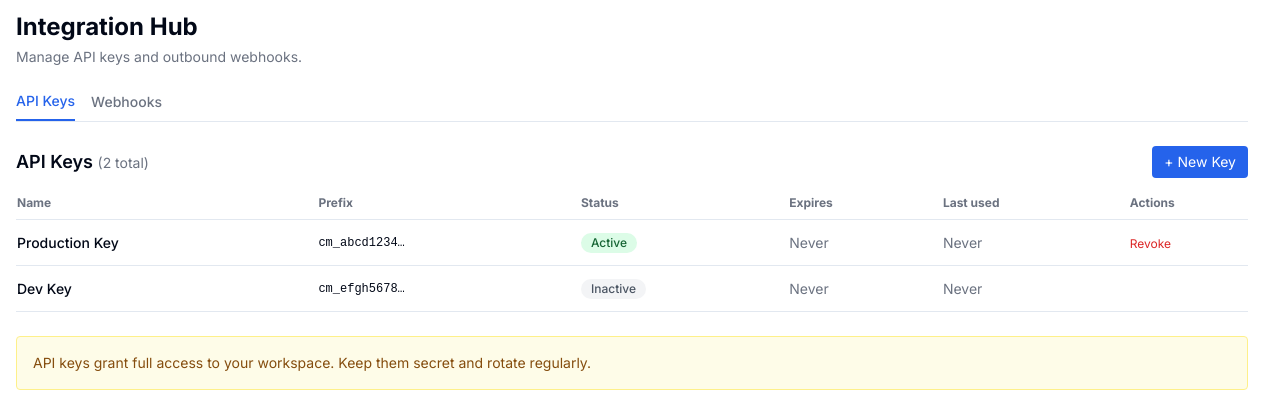
Test: IntegrationCenter › switches to webhooks panel on tab click
Click the button with test id "tab-webhooks": (127, 106) [91,91,162,121]
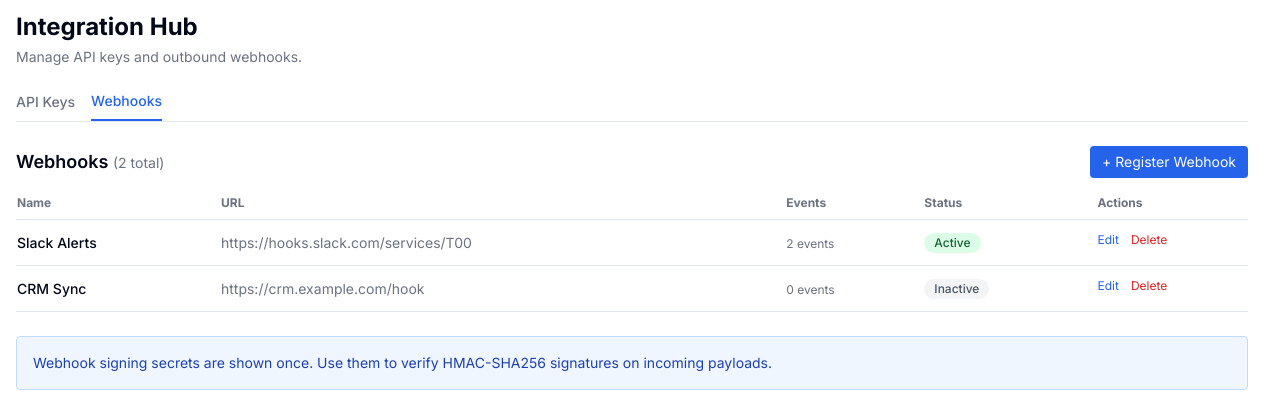
Expected: the element with test id "panel-webhooks" is shown, [16,146,1248,390]
